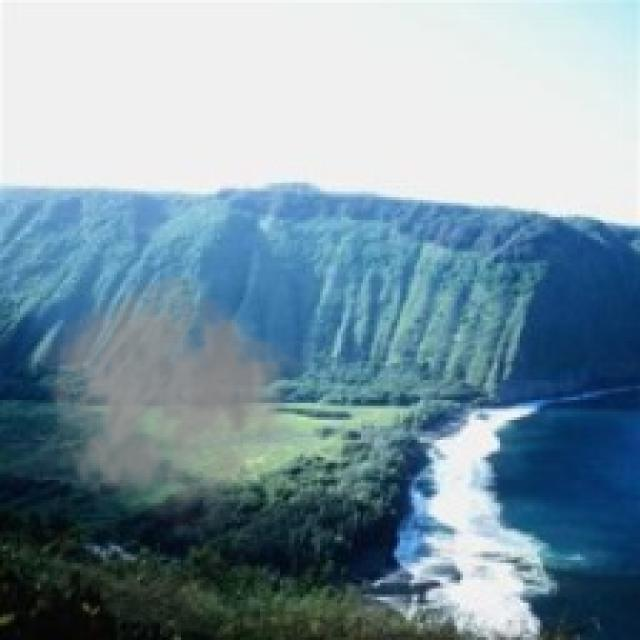smoke: (37, 274, 312, 540)
